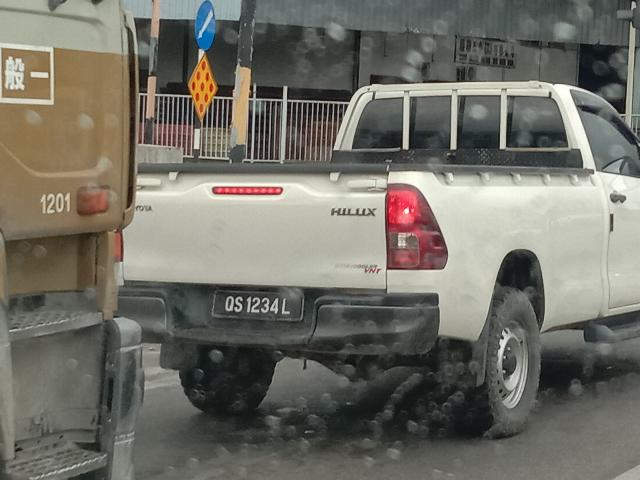License_Plate: (213, 291, 305, 323)
car: (112, 69, 636, 441)
